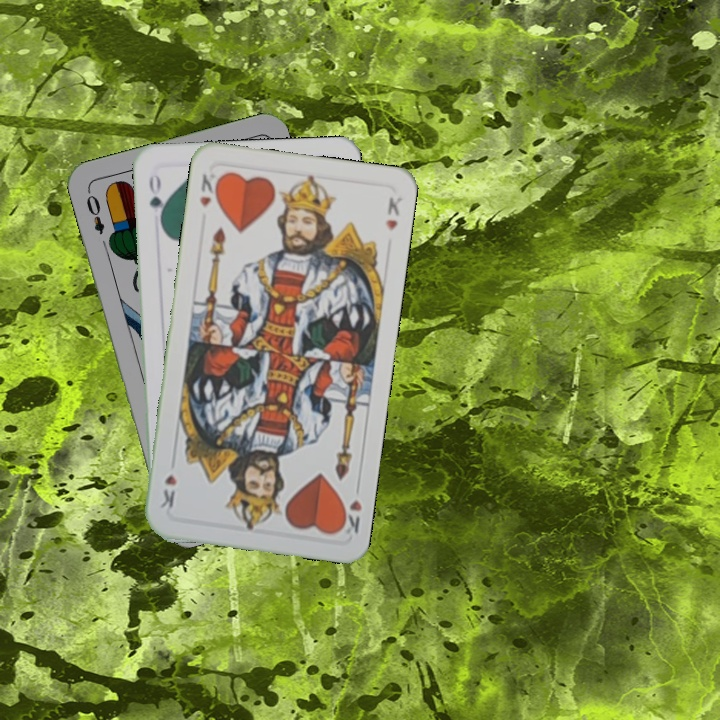EO: (82, 186, 107, 237)
GO: (145, 168, 168, 227)
HK: (335, 479, 365, 536), (195, 169, 223, 210)
